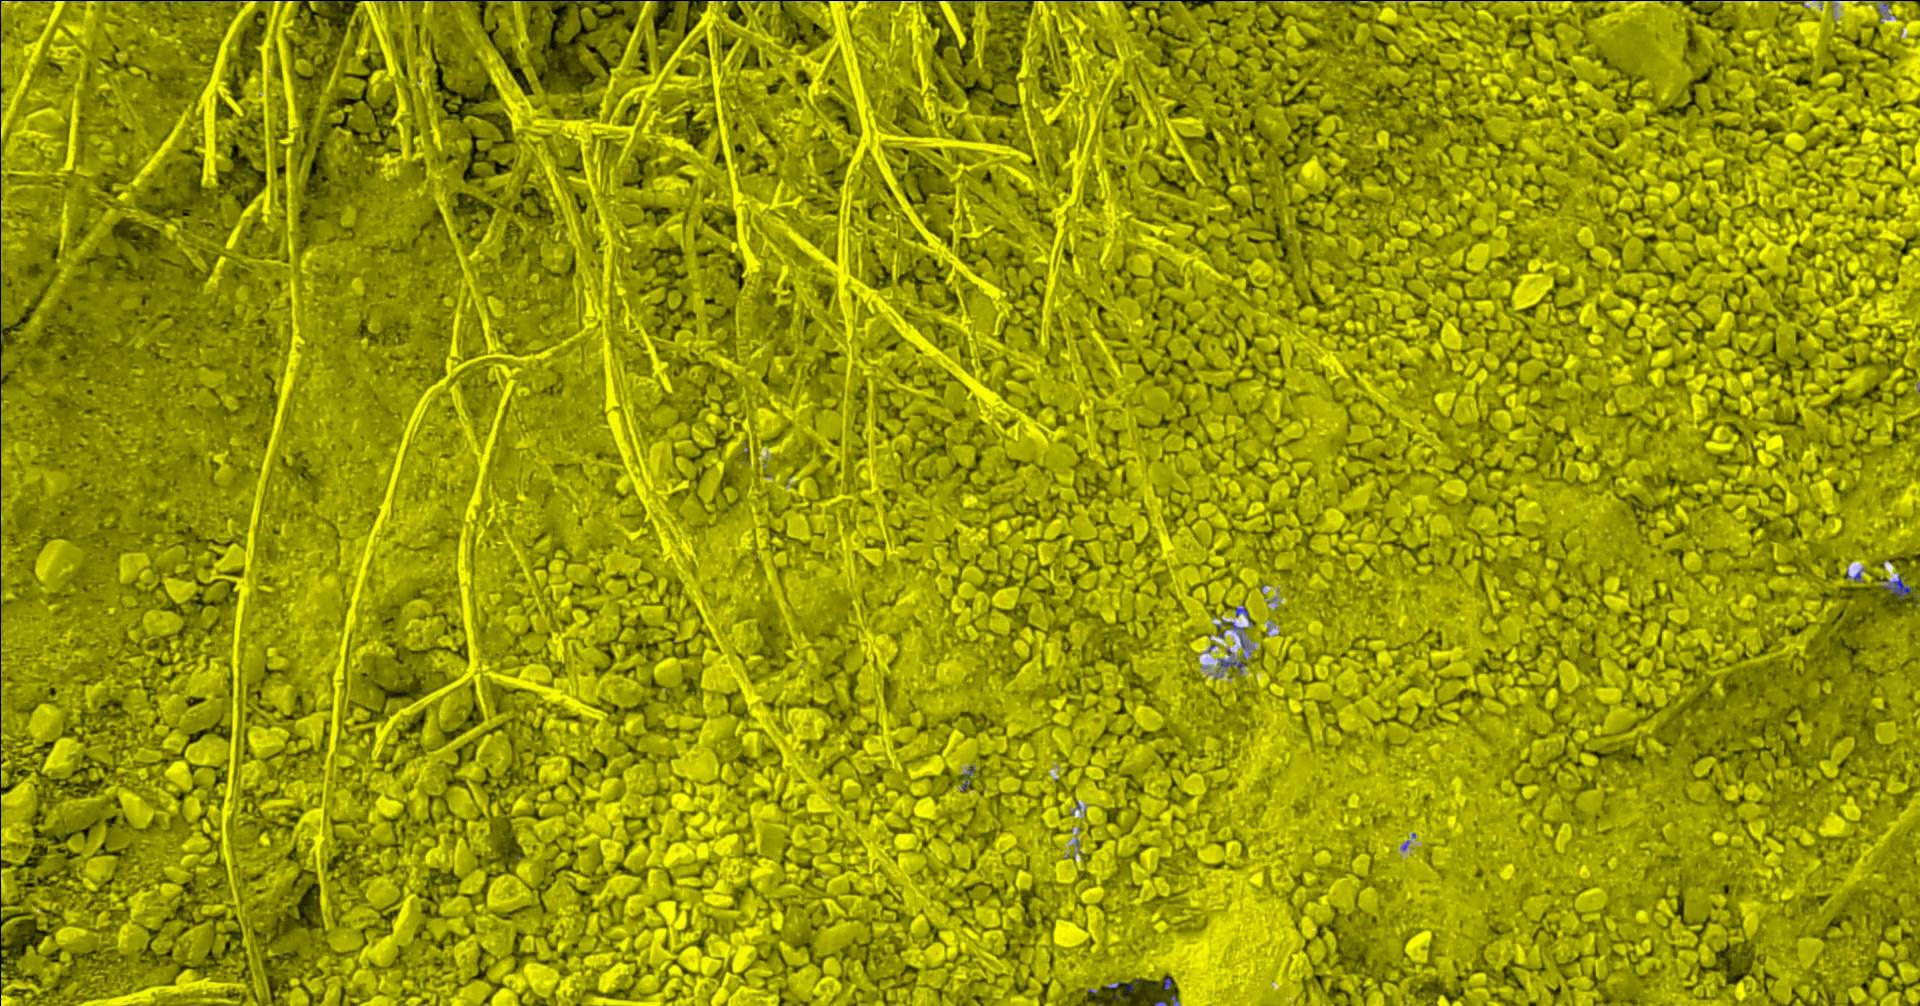ant: (1883, 575, 1912, 600), (1219, 659, 1244, 672)
